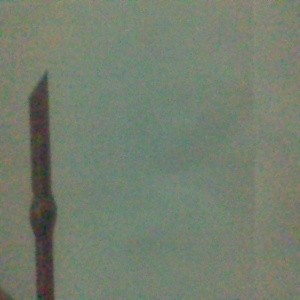cutter: (26, 69, 58, 300)
